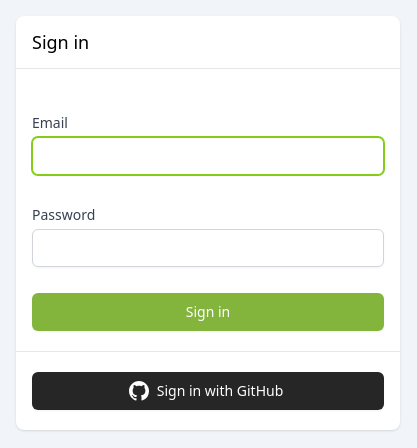
Scenario: Sign In › should show an error when email is not a valid email
This screenshot has width=417, height=448.
# Type an email with a wrong format.
In the field named "email": [208, 156] box [32, 137, 384, 175], type "This is not an email"
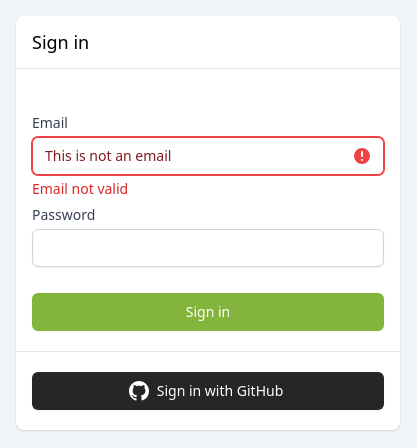
Now the text "Email not valid" is shown, box [32, 179, 128, 198]
